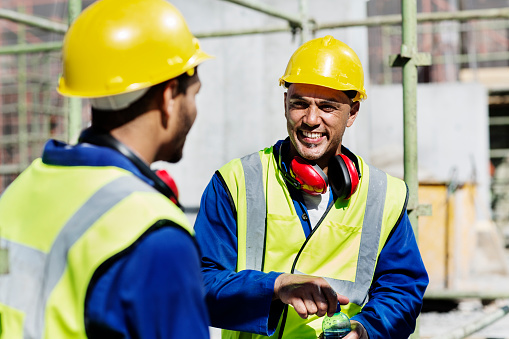Safety Helmet: (48, 1, 217, 175), (274, 28, 365, 171)
